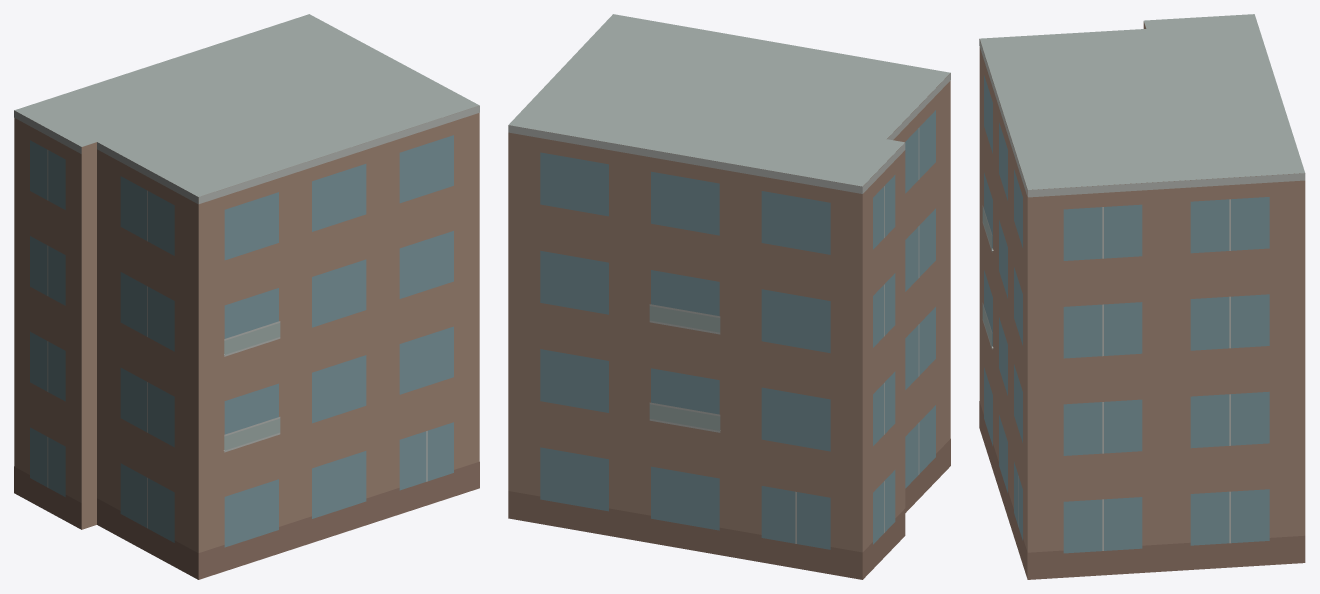
File: survey-upis-32738010.glb
3 renders of one model, left to right at view 1: azimuth 30°, elevation 25°; view 2: azimuth 150°, elevation 25°; view 3: azimuth 270°, elevation 25°, orthographic. The views are drawn at different scales.
Visible parts, largest first — view 1: survey-upis-32738010.tmp; view 2: survey-upis-32738010.tmp; view 3: survey-upis-32738010.tmp.
Boxes of the visible parts, x1,y1,x2,y2 form: survey-upis-32738010.tmp: (14, 14, 479, 579); survey-upis-32738010.tmp: (508, 14, 950, 579); survey-upis-32738010.tmp: (979, 14, 1305, 579).
Bounding box in the file's own units: 12.41 × 12.8 × 9.7.
